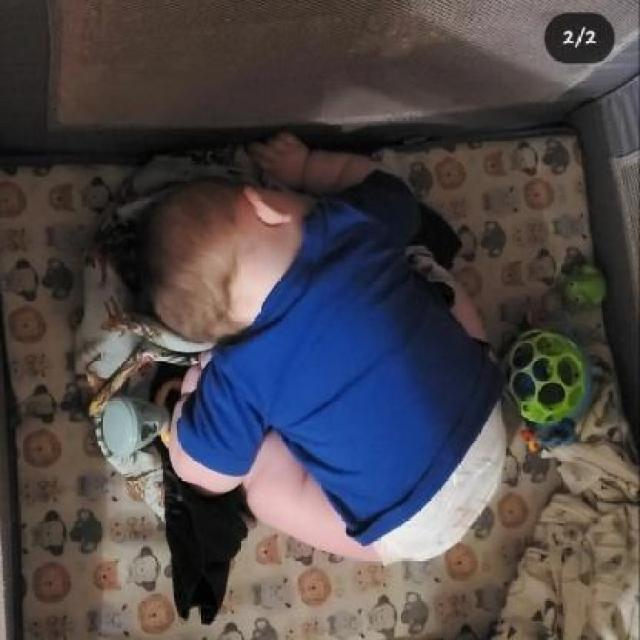child: (123, 128, 507, 564)
